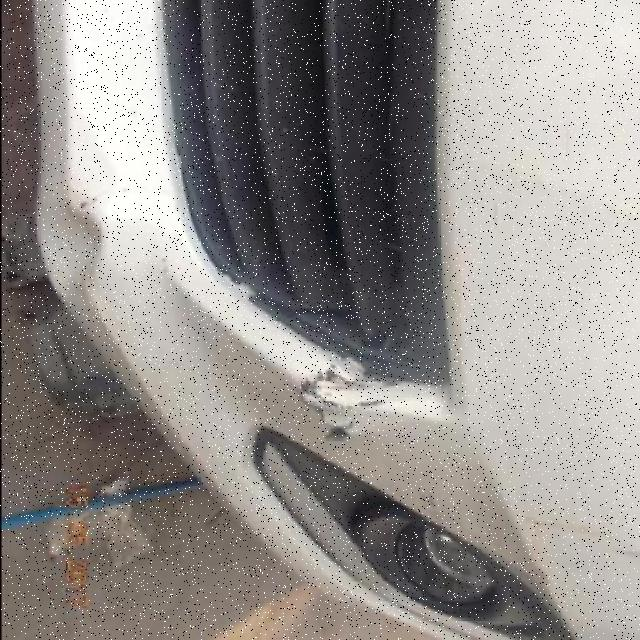damage: (480, 158, 639, 233), (524, 517, 640, 588), (34, 203, 106, 304), (57, 115, 120, 210), (283, 361, 396, 409), (309, 406, 358, 444), (406, 488, 441, 521)
